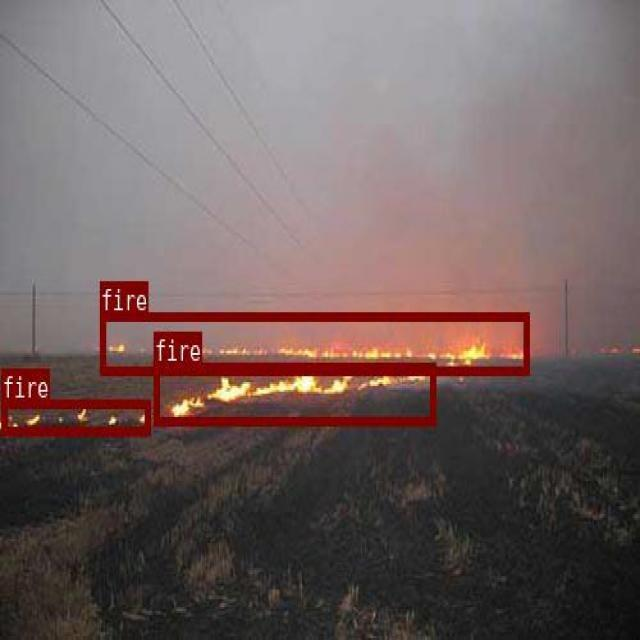fire: (99, 312, 528, 374), (154, 362, 435, 425), (1, 398, 149, 433)
